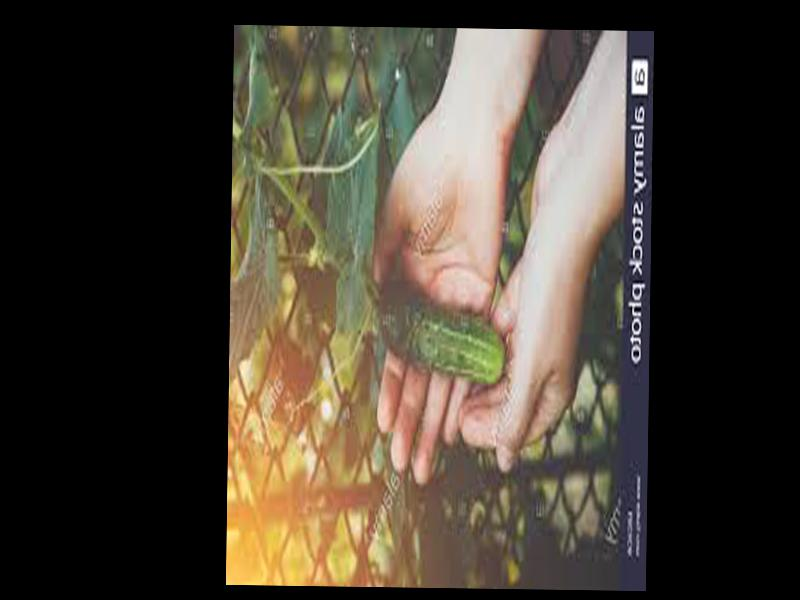Cucumber: (378, 283, 507, 386)
